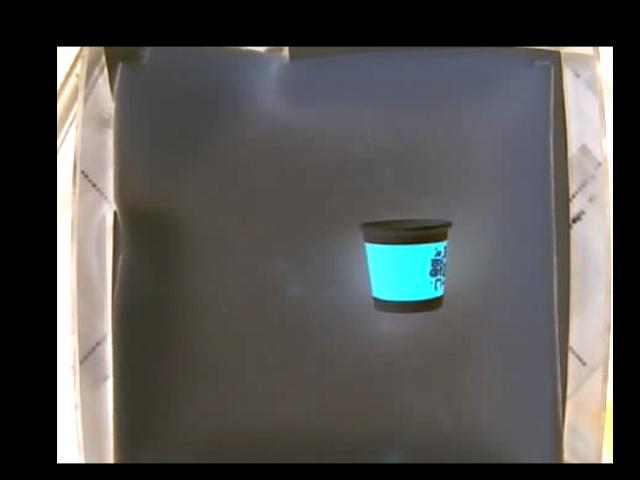Cup: (363, 216, 451, 312)
